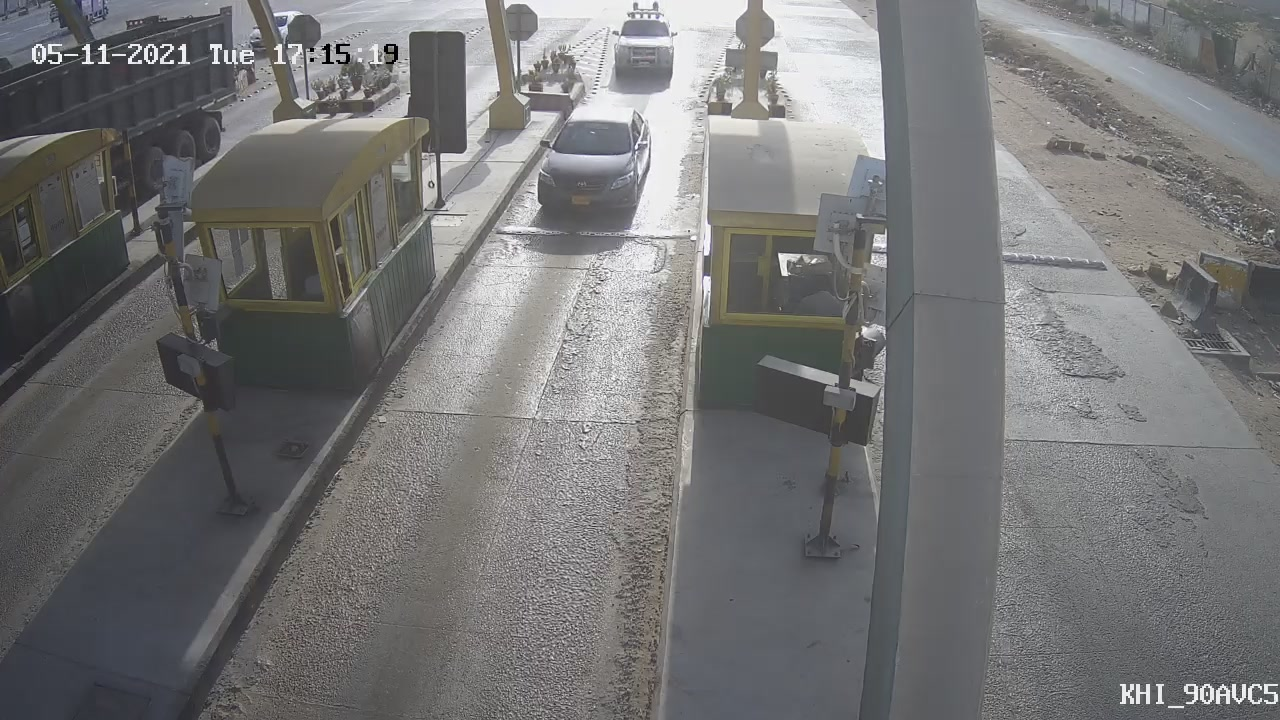F1: (513, 87, 665, 246)
